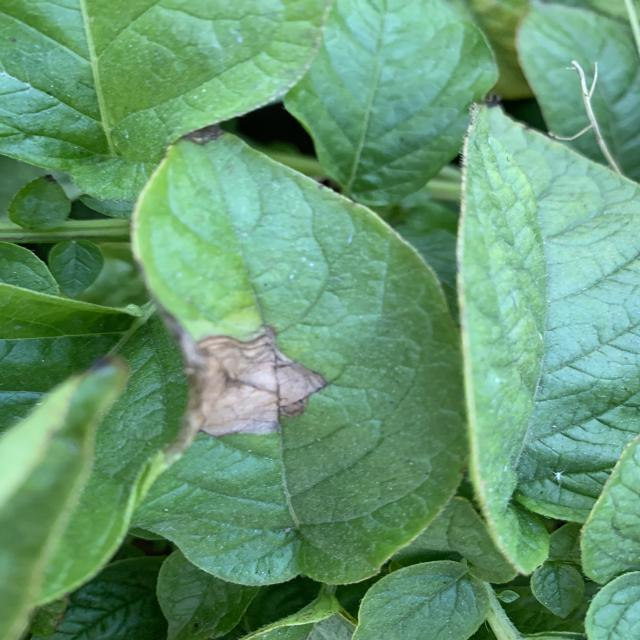lateblight: (197, 330, 327, 436)
